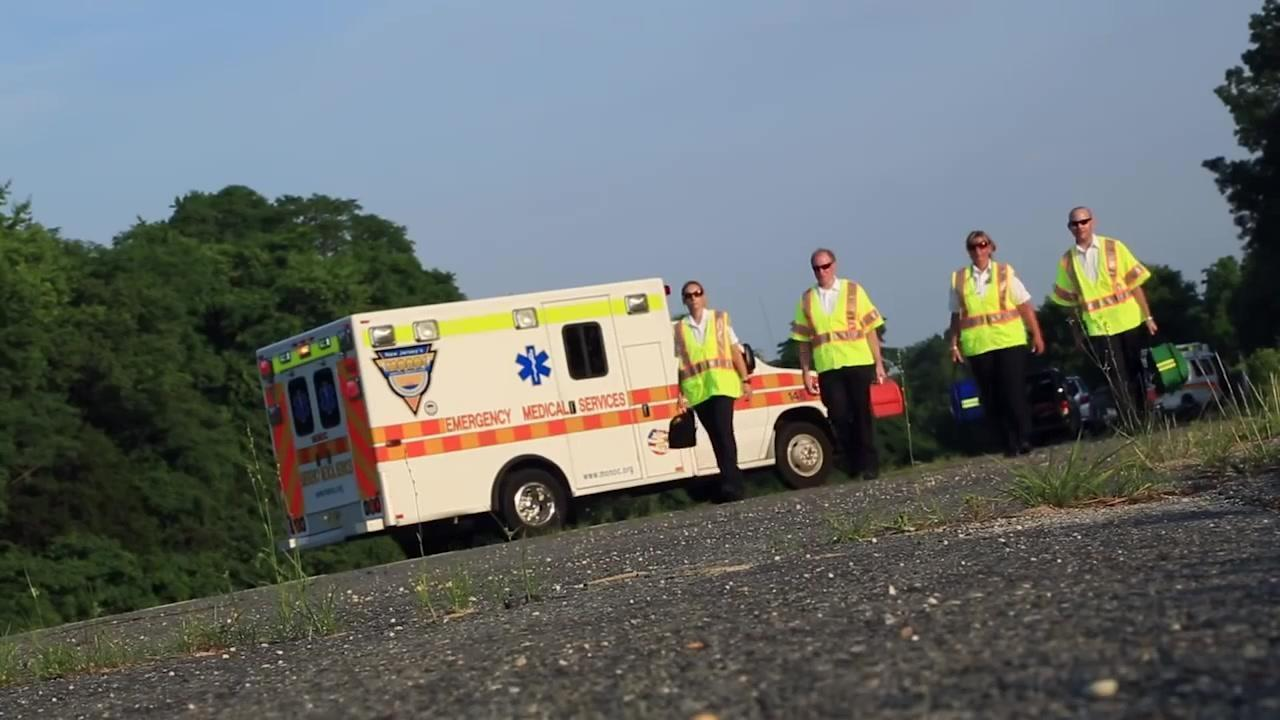no-helmet: (678, 277, 712, 307), (808, 244, 839, 276), (964, 226, 996, 257), (1067, 205, 1099, 231)
vest: (1043, 238, 1155, 337), (952, 264, 1030, 362), (800, 279, 875, 373), (672, 312, 746, 407)
